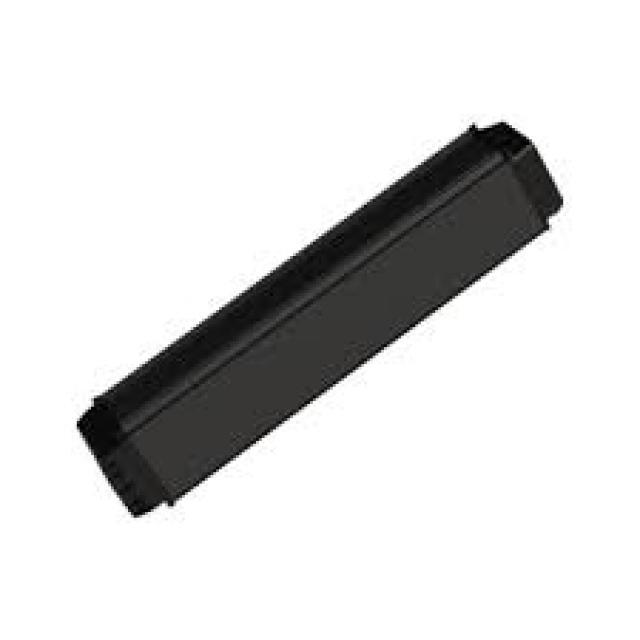battery: (80, 114, 570, 517)
